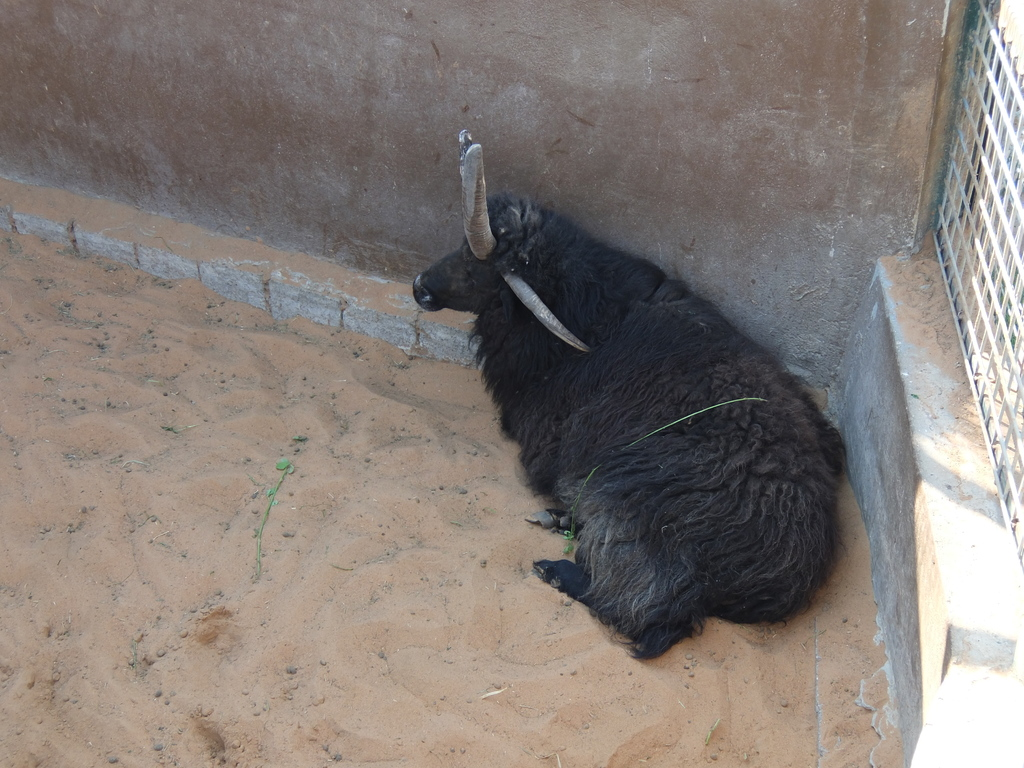Animal: (407, 120, 850, 665)
